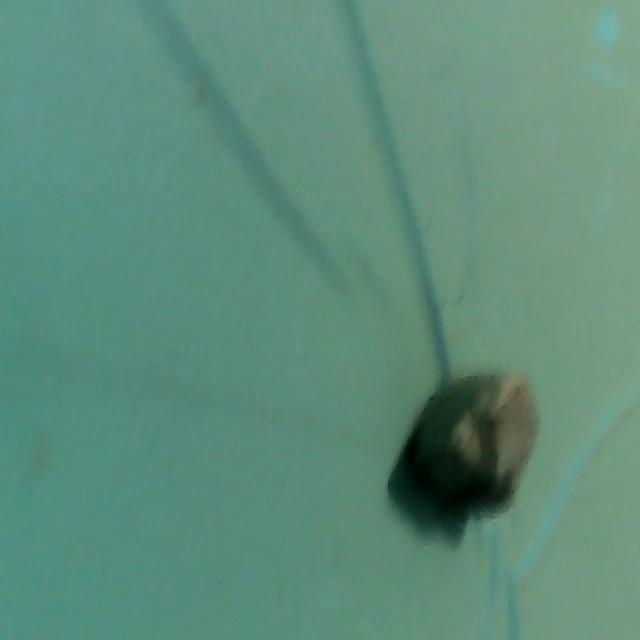rock: (384, 359, 547, 532)
